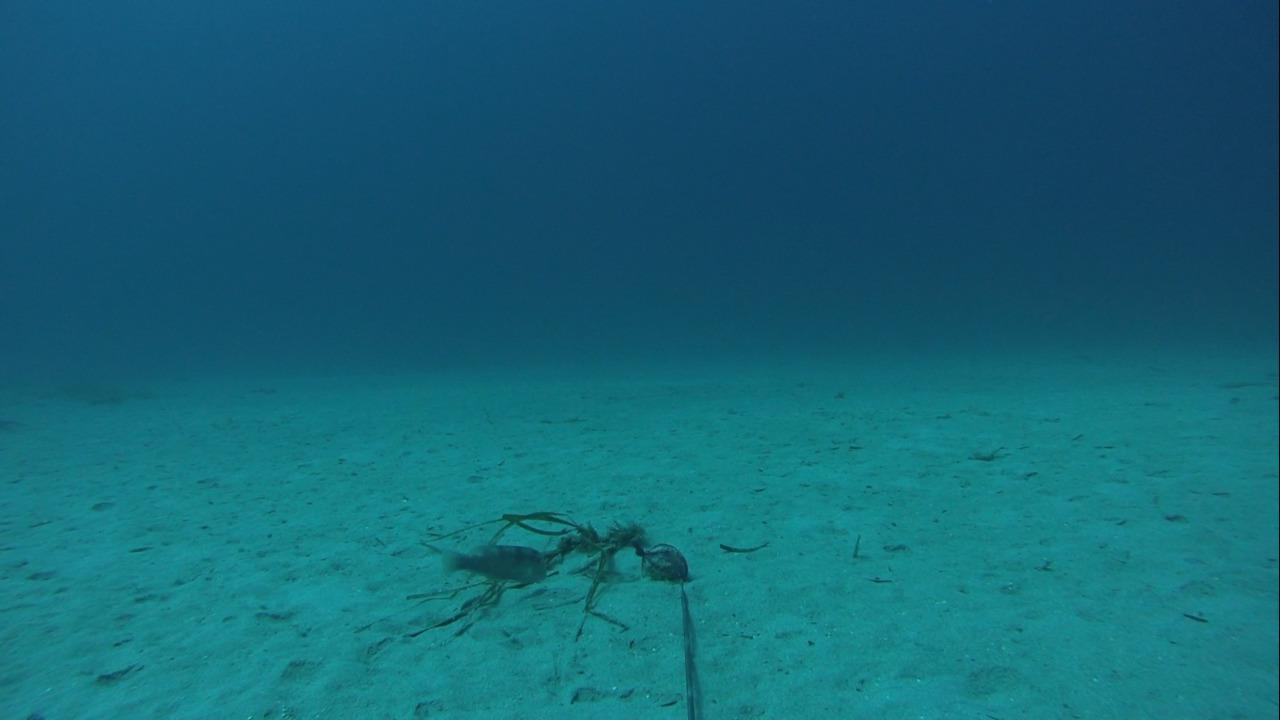raor: (439, 538, 550, 588)
